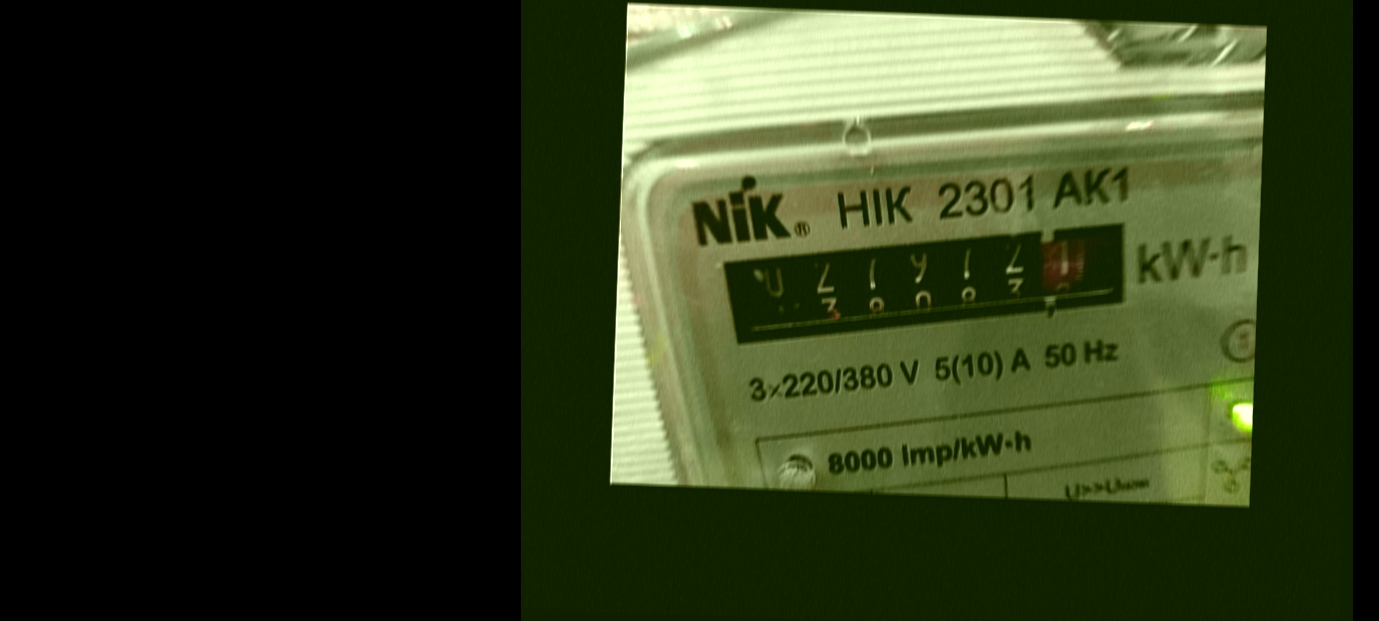0: (759, 262, 788, 299)
1: (1053, 235, 1076, 279)
2: (808, 255, 838, 295), (999, 238, 1028, 276)
7: (951, 241, 979, 283), (858, 253, 882, 291)
9: (905, 248, 933, 284)
screen: (703, 199, 1160, 369)
